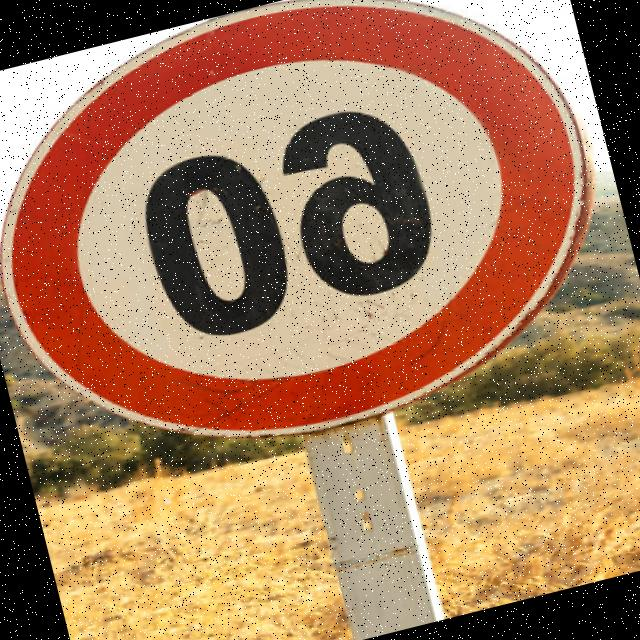speed_limit_60: (0, 0, 638, 504)
